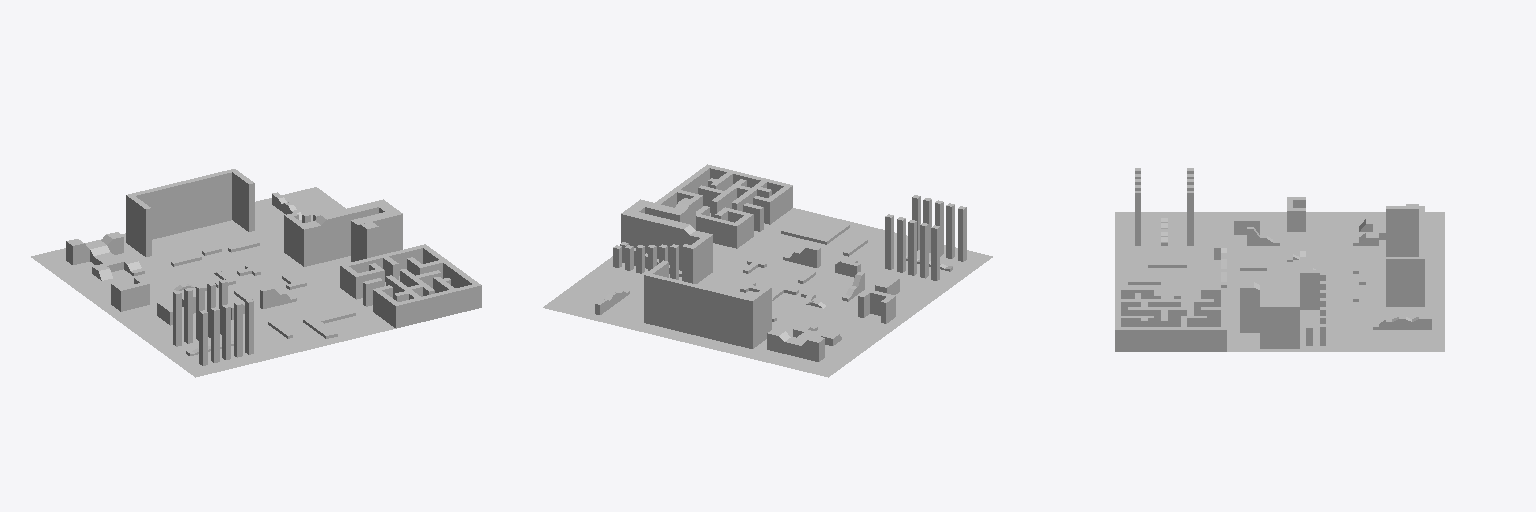
The model's file is map_1.obj.
3 renders of one model, left to right at view 1: azimuth 30°, elevation 25°; view 2: azimuth 150°, elevation 25°; view 3: azimuth 270°, elevation 25°, orthographic.
Parts seen in each view (by area): view 1: Plane_Plane.004; view 2: Plane_Plane.004; view 3: Plane_Plane.004.
Part boxes in pixels (x1,y1,x2,y2): Plane_Plane.004: (31,169,481,377); Plane_Plane.004: (543,164,992,377); Plane_Plane.004: (1115,168,1444,351).
Size of the model in its own units: 200 by 35 by 200.